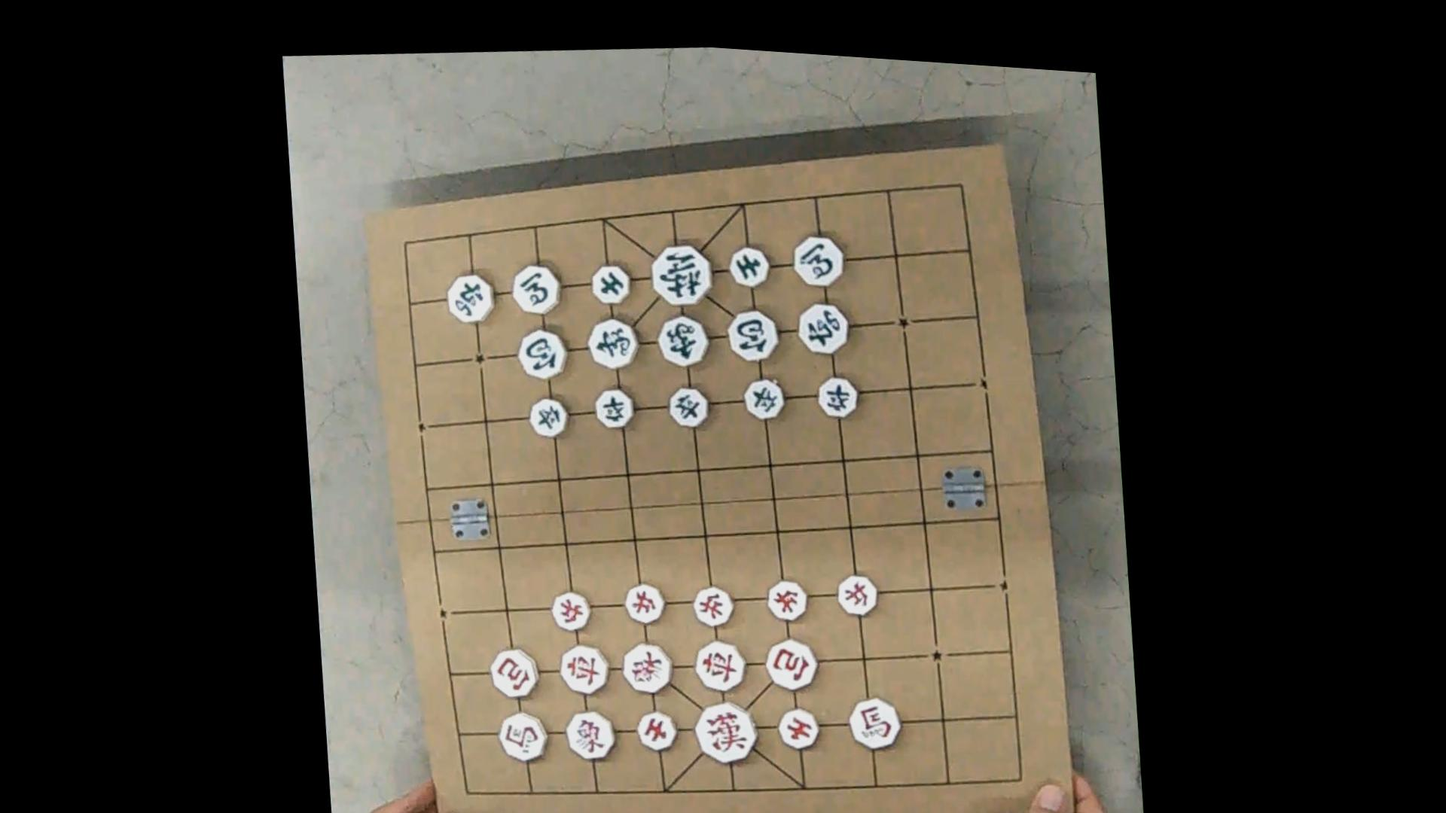cha_green: (796, 301, 850, 356), (444, 271, 496, 325)
cha_red: (693, 639, 748, 695), (557, 643, 610, 696)
jol_green: (742, 376, 786, 422), (816, 376, 859, 420), (526, 395, 569, 438), (593, 387, 636, 430), (667, 385, 709, 428)
jol_red: (835, 574, 879, 618), (765, 579, 808, 624), (691, 585, 734, 629), (623, 583, 666, 626), (550, 590, 591, 632)
ma_green: (791, 233, 846, 289), (510, 262, 562, 318)
ma_red: (848, 696, 901, 752), (496, 711, 549, 763)
po_green: (725, 308, 780, 364), (515, 326, 569, 381)
po_red: (764, 636, 818, 693), (489, 646, 540, 700)
sa_green: (727, 245, 770, 289), (589, 263, 631, 306)
sa_red: (635, 709, 678, 754), (776, 707, 819, 751)
sang_green: (656, 312, 711, 369), (585, 315, 640, 371)
sang_red: (621, 641, 673, 696), (564, 709, 616, 762)
wang_green: (647, 241, 714, 309)
wang_red: (691, 699, 758, 767)
